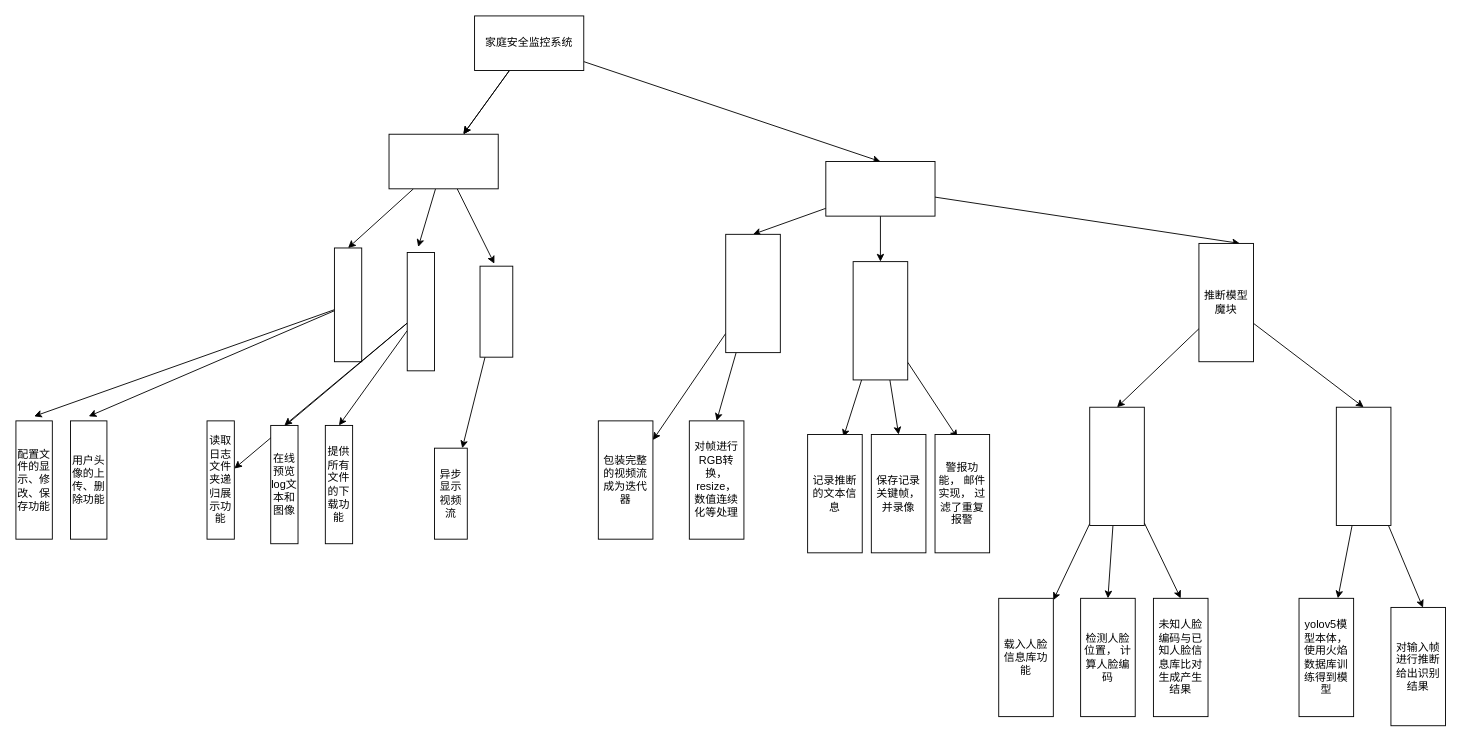
Image size: 1461x742. Some labels were removed from this diagram. The centre of each missing label's shape, as x and y in pixels:
人脸识别模块: the point at 1116,466
前端: the point at 443,161
后端: the point at 880,188
日志文件页面: the point at 420,311
日志，报警模块: the point at 880,320
火焰识别模块: the point at 1363,466
系统配置页面: the point at 348,304
视频流管理模块: the point at 752,293
视频页面: the point at 496,311
